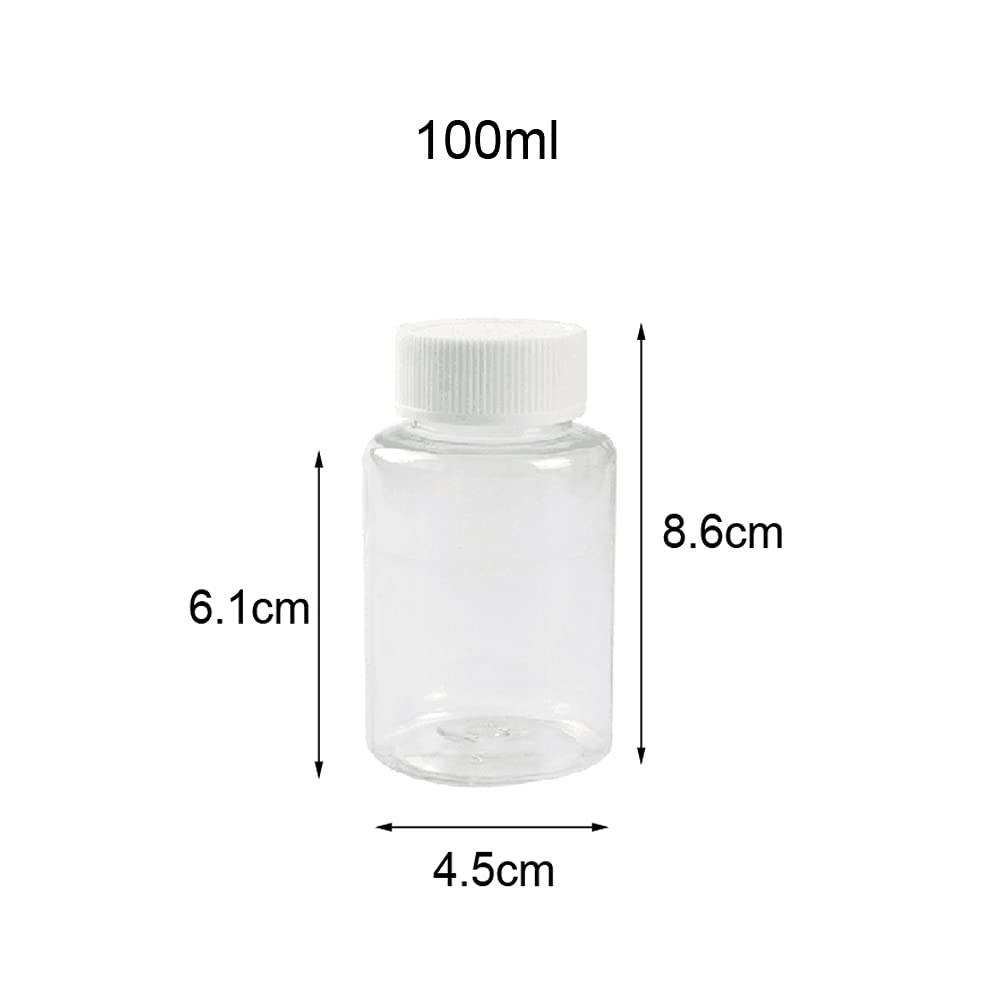100ml: (419, 120, 556, 159)
4.5cm: (434, 852, 553, 886)
6.1cm: (190, 589, 308, 624)
8.6cm: (664, 514, 782, 548)
